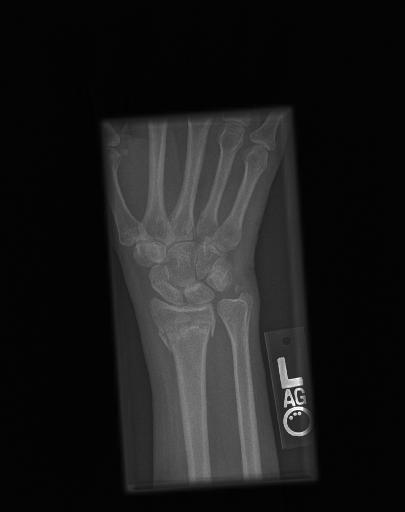fractured: (153, 304, 219, 351)
